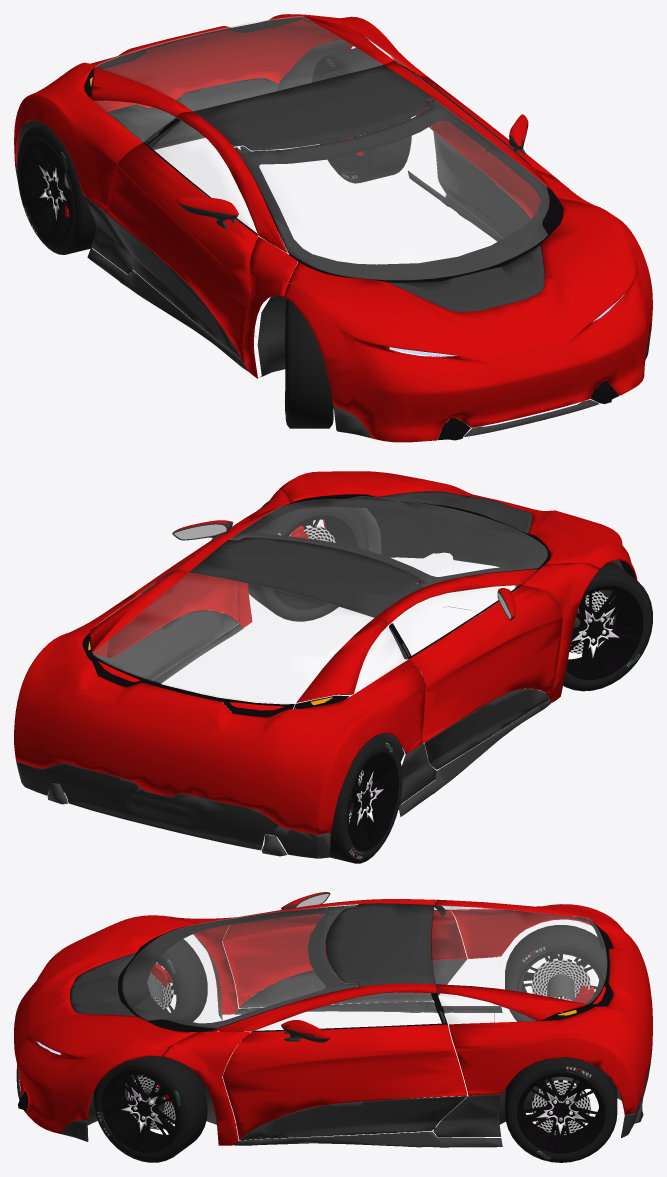
The model's file is car.glb.
3 views of the same model, one above another, from view 1: azimuth 30°, elevation 25°; view 2: azimuth 150°, elevation 25°; view 3: azimuth 270°, elevation 25° (orthographic). The views are drawn at different scales.
Visible parts, largest first — view 1: BodyRearPanelsColor1, BodyWindshield, BodyRoofPanel, BodyWindshieldGasket, object 13, WheelFrontLRim, BodyUnderside; view 2: BodyRearPanelsColor1, BodyWindshield, BodyRoofPanel, BodyWindshieldGasket, WheelFrontLRim, object 13, BodyUnderside, WheelFrontLBrakeDisc, BodyDoorRMirror; view 3: BodyRearPanelsColor1, BodyWindshield, BodyRoofPanel, object 13, WheelFrontLRim, BodyWindshieldGasket, WheelFrontLBrakeDisc, BodyUnderside, WheelFrontLBrakePad.
Part boxes in pixels (bbox=[...]): BodyRearPanelsColor1: bbox=[14, 14, 652, 442]; BodyWindshield: bbox=[94, 16, 549, 279]; BodyRoofPanel: bbox=[15, 65, 651, 438]; BodyWindshieldGasket: bbox=[84, 17, 618, 440]; object 13: bbox=[17, 48, 602, 428]; WheelFrontLRim: bbox=[20, 68, 366, 414]; BodyUnderside: bbox=[16, 39, 389, 377]; BodyRearPanelsColor1: bbox=[14, 471, 637, 834]; BodyWindshield: bbox=[92, 496, 547, 703]; BodyRoofPanel: bbox=[16, 491, 550, 858]; BodyWindshieldGasket: bbox=[82, 489, 635, 717]; WheelFrontLRim: bbox=[273, 515, 643, 851]; object 13: bbox=[50, 501, 652, 863]; BodyUnderside: bbox=[47, 507, 624, 856]; WheelFrontLBrakeDisc: bbox=[289, 525, 613, 823]; BodyDoorRMirror: bbox=[174, 524, 511, 618]; BodyRearPanelsColor1: bbox=[14, 892, 652, 1145]; BodyWindshield: bbox=[122, 904, 606, 1030]; BodyRoofPanel: bbox=[16, 892, 652, 1147]; object 13: bbox=[93, 925, 617, 1162]; WheelFrontLRim: bbox=[102, 951, 605, 1153]; BodyWindshieldGasket: bbox=[18, 901, 613, 1112]; WheelFrontLBrakeDisc: bbox=[127, 958, 590, 1134]; BodyUnderside: bbox=[87, 934, 643, 1129]; WheelFrontLBrakePad: bbox=[150, 963, 594, 1129].
Bounding box in the file's own units: 2.54 × 1.15 × 4.36.
15 materials, 11 textured.
